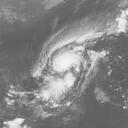cyclone: (48, 43, 84, 80)
